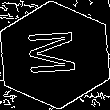M_E: (25, 30, 85, 80)
